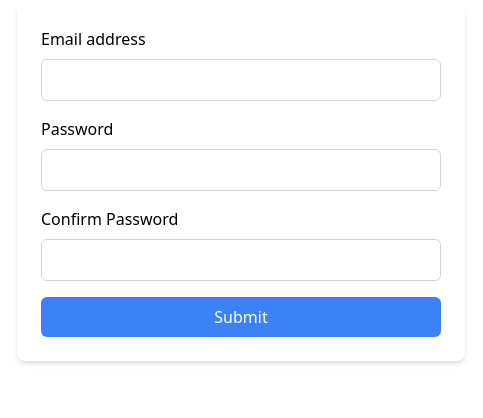
Scenario: 05-form-testing › should show password error if password do not match
The width and height of the screenshot is (483, 418).
Check: the text "Password do not match" is not shown
Type "test@test.com" into the field labelled "Email address". click: (241, 80)
box: [41, 59, 441, 101]
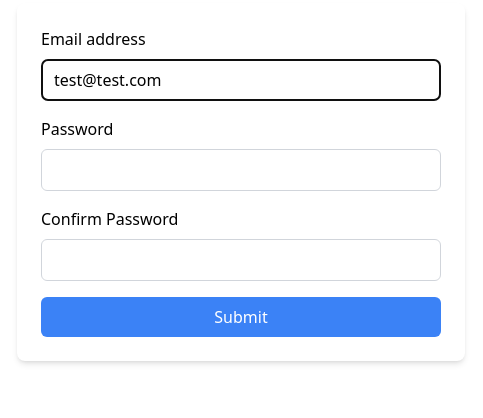
Type "123456" into the password field labelled "Password". click: (241, 170)
box: [41, 149, 441, 191]
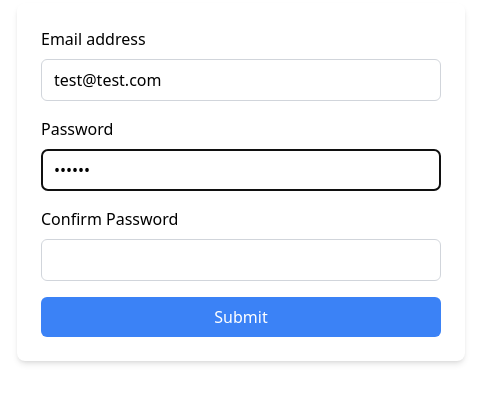
Type "1234567" into the password field labelled "Confirm Password". click: (241, 260)
box: [41, 239, 441, 281]
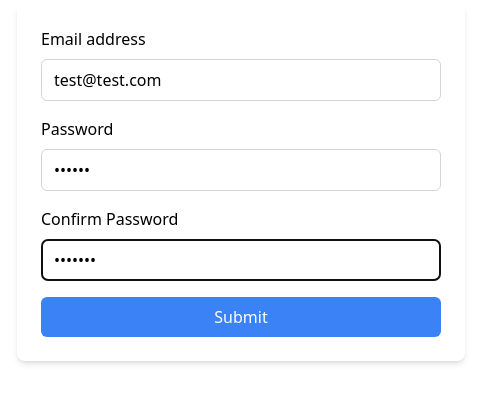
Click the button "Submit". click: (241, 317)
box: [41, 297, 441, 337]
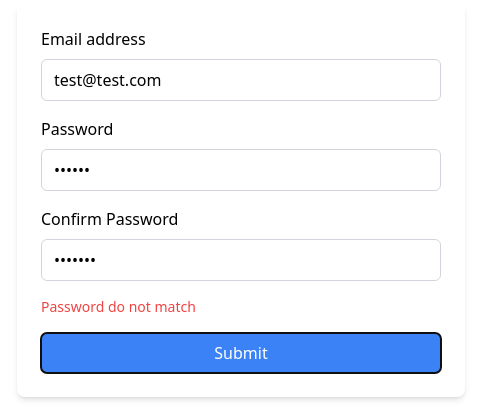
Check: the text "Password do not match" is shown, box [41, 297, 196, 316]
